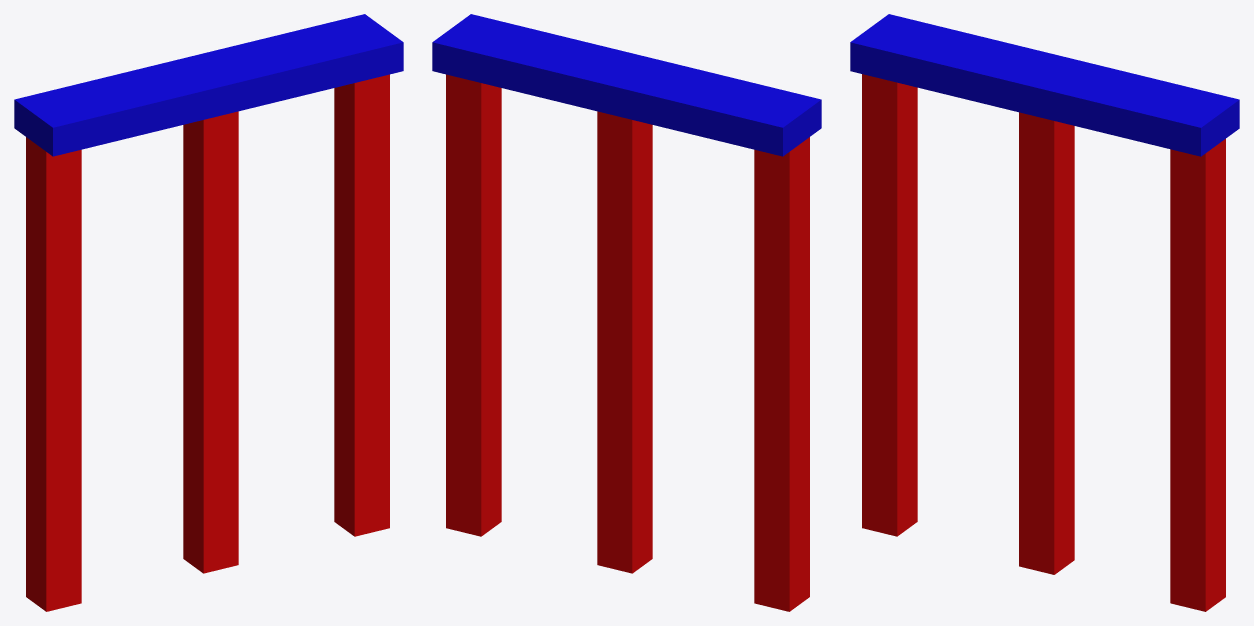
Rendered from HG_model_banister.fbx.
3 views of the same model, side by side, from view 1: azimuth 30°, elevation 25°; view 2: azimuth 150°, elevation 25°; view 3: azimuth 330°, elevation 25° (orthographic).
Parts seen in each view (by area): view 1: Cube; view 2: Cube; view 3: Cube.
Boxes of the visible parts, <box> form: Cube: <box>14,14,403,611</box>; Cube: <box>432,14,821,611</box>; Cube: <box>850,14,1239,611</box>.
Size of the model in its own units: 370 by 495 by 70.61.
